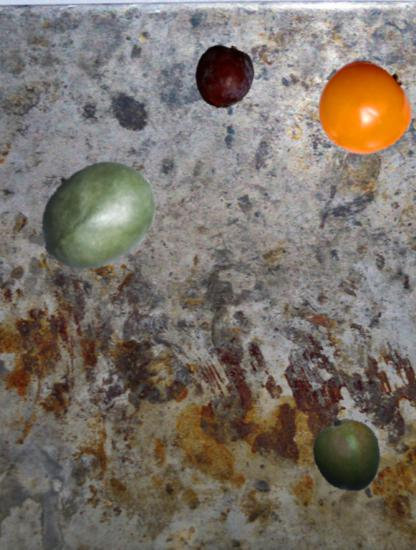Lychee: (79, 181, 141, 243)
Mango: (35, 152, 159, 276), (309, 417, 386, 494)
Plum: (191, 44, 257, 110)
Tomato: (315, 60, 413, 158)
